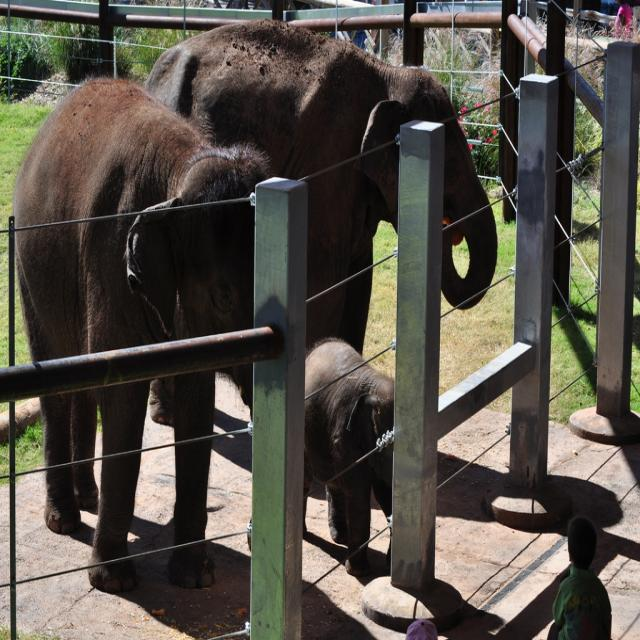elephant: (30, 52, 281, 584), (148, 24, 497, 344), (300, 344, 419, 566)
